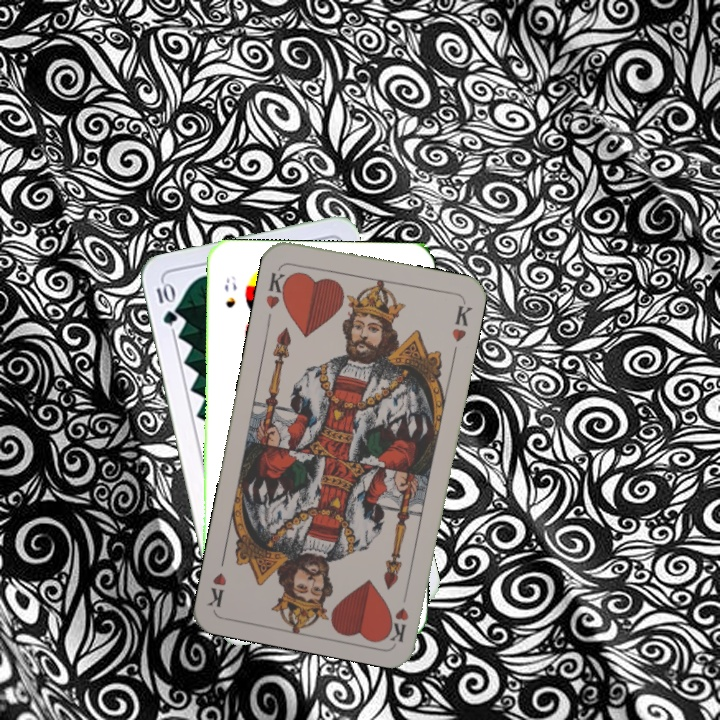G10: (152, 279, 180, 328)
HK: (385, 584, 411, 644), (261, 268, 293, 311)
S8: (220, 271, 239, 310)
